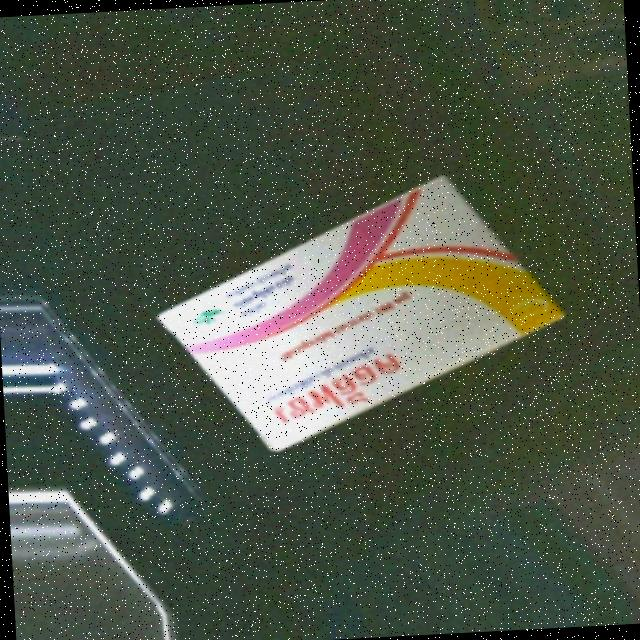sefloc: (154, 153, 563, 471)
